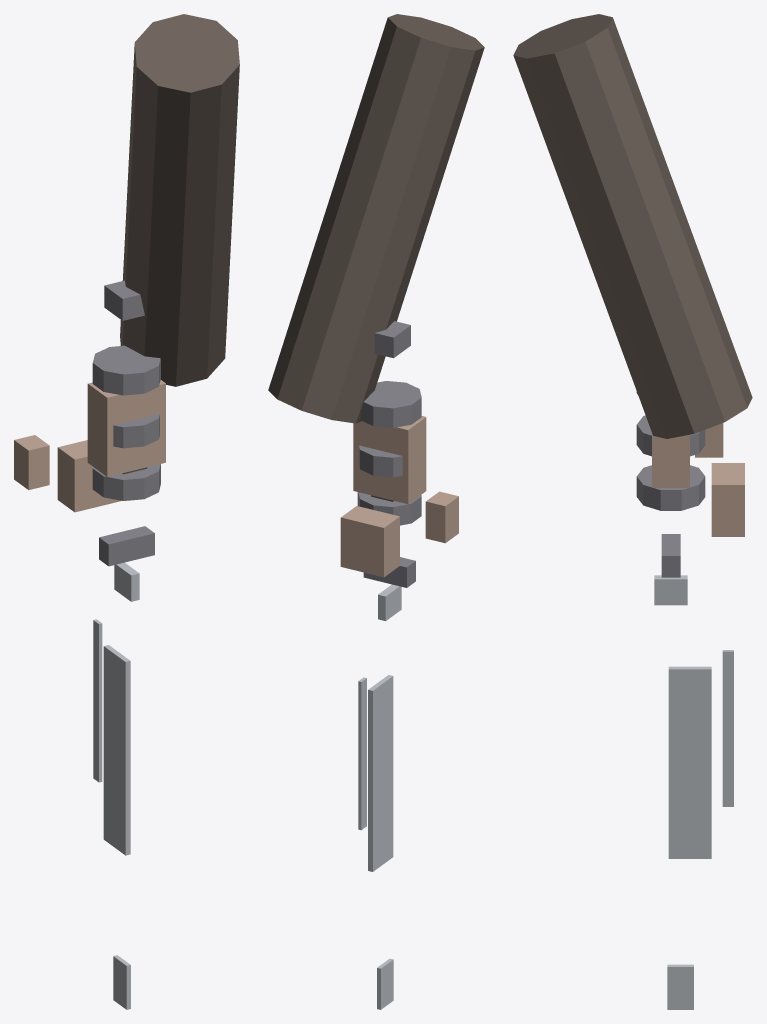
The model's file is knife_fp_v0.glb.
3 renders of one model, left to right at view 1: azimuth 30°, elevation 25°; view 2: azimuth 150°, elevation 25°; view 3: azimuth 270°, elevation 25°, orthographic. The views are drawn at different scales.
Parts seen in each view (by area): view 1: fp_hand, knife_blade; view 2: fp_hand, knife_blade; view 3: fp_hand, knife_blade.
Part boxes in pixels (<box>): fp_hand: <box>14,14,239,512</box>; knife_blade: <box>92,280,160,1009</box>; fp_hand: <box>268,14,484,577</box>; knife_blade: <box>357,321,421,1009</box>; fp_hand: <box>513,14,752,536</box>; knife_blade: <box>636,391,733,1009</box>.
Size of the model in its own units: 0.1155 by 0.5751 by 0.1256.
